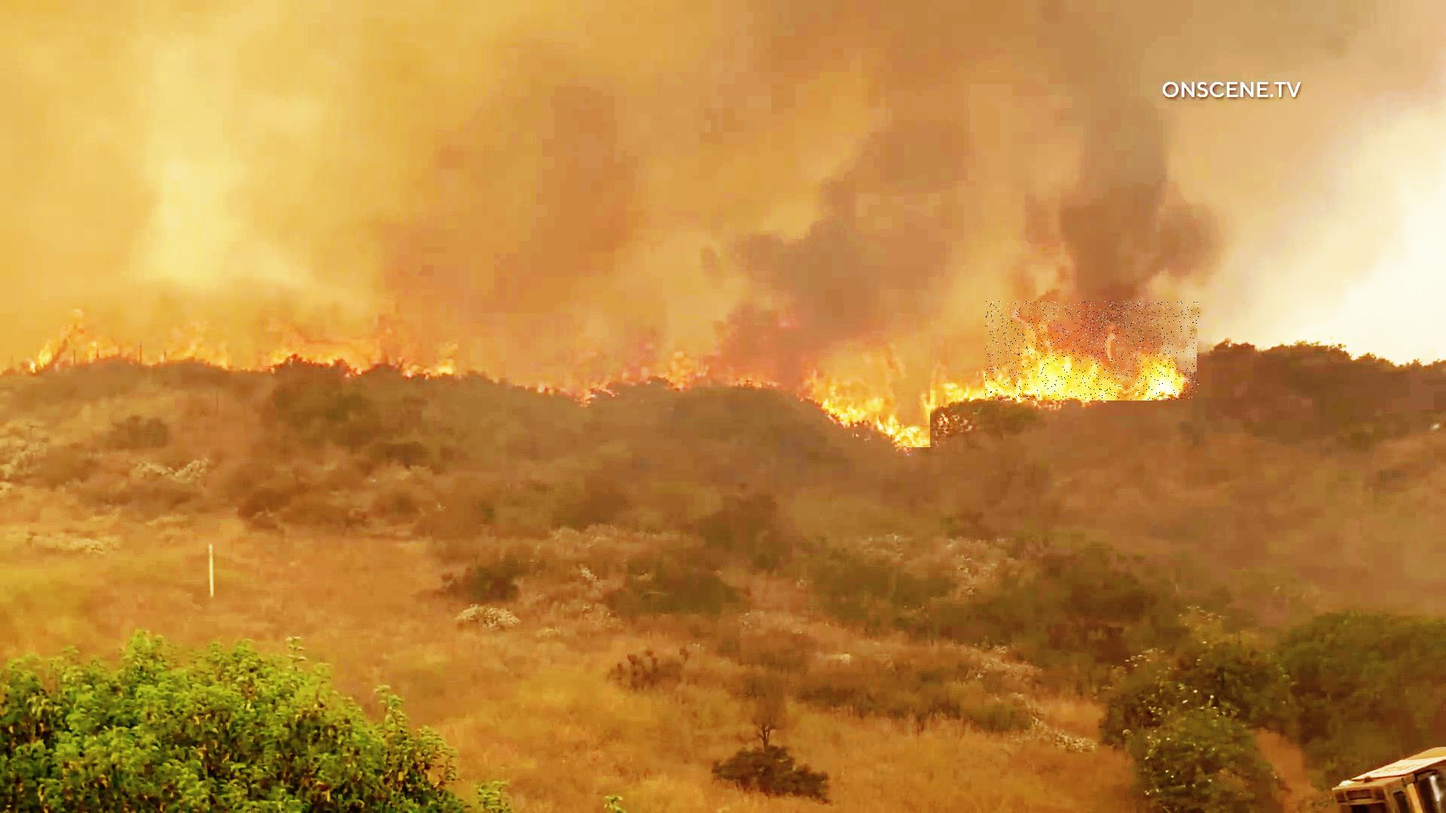fire: (697, 298, 930, 448), (986, 301, 1200, 401), (903, 335, 1004, 432)
